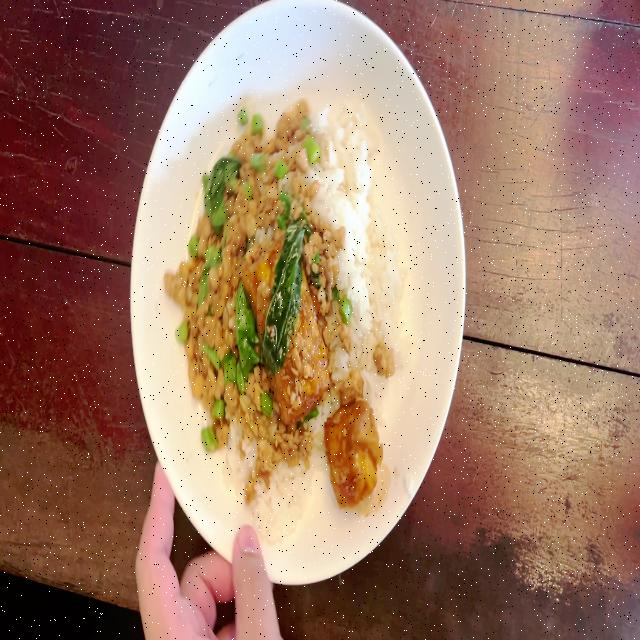fried_tofo: (253, 235, 324, 417), (330, 404, 376, 503)
minced_pork: (165, 250, 258, 455), (187, 101, 286, 249), (282, 106, 340, 298), (257, 402, 308, 485)
rice: (336, 97, 402, 379), (223, 442, 310, 538)
stir_fried_basil: (164, 95, 409, 521)
